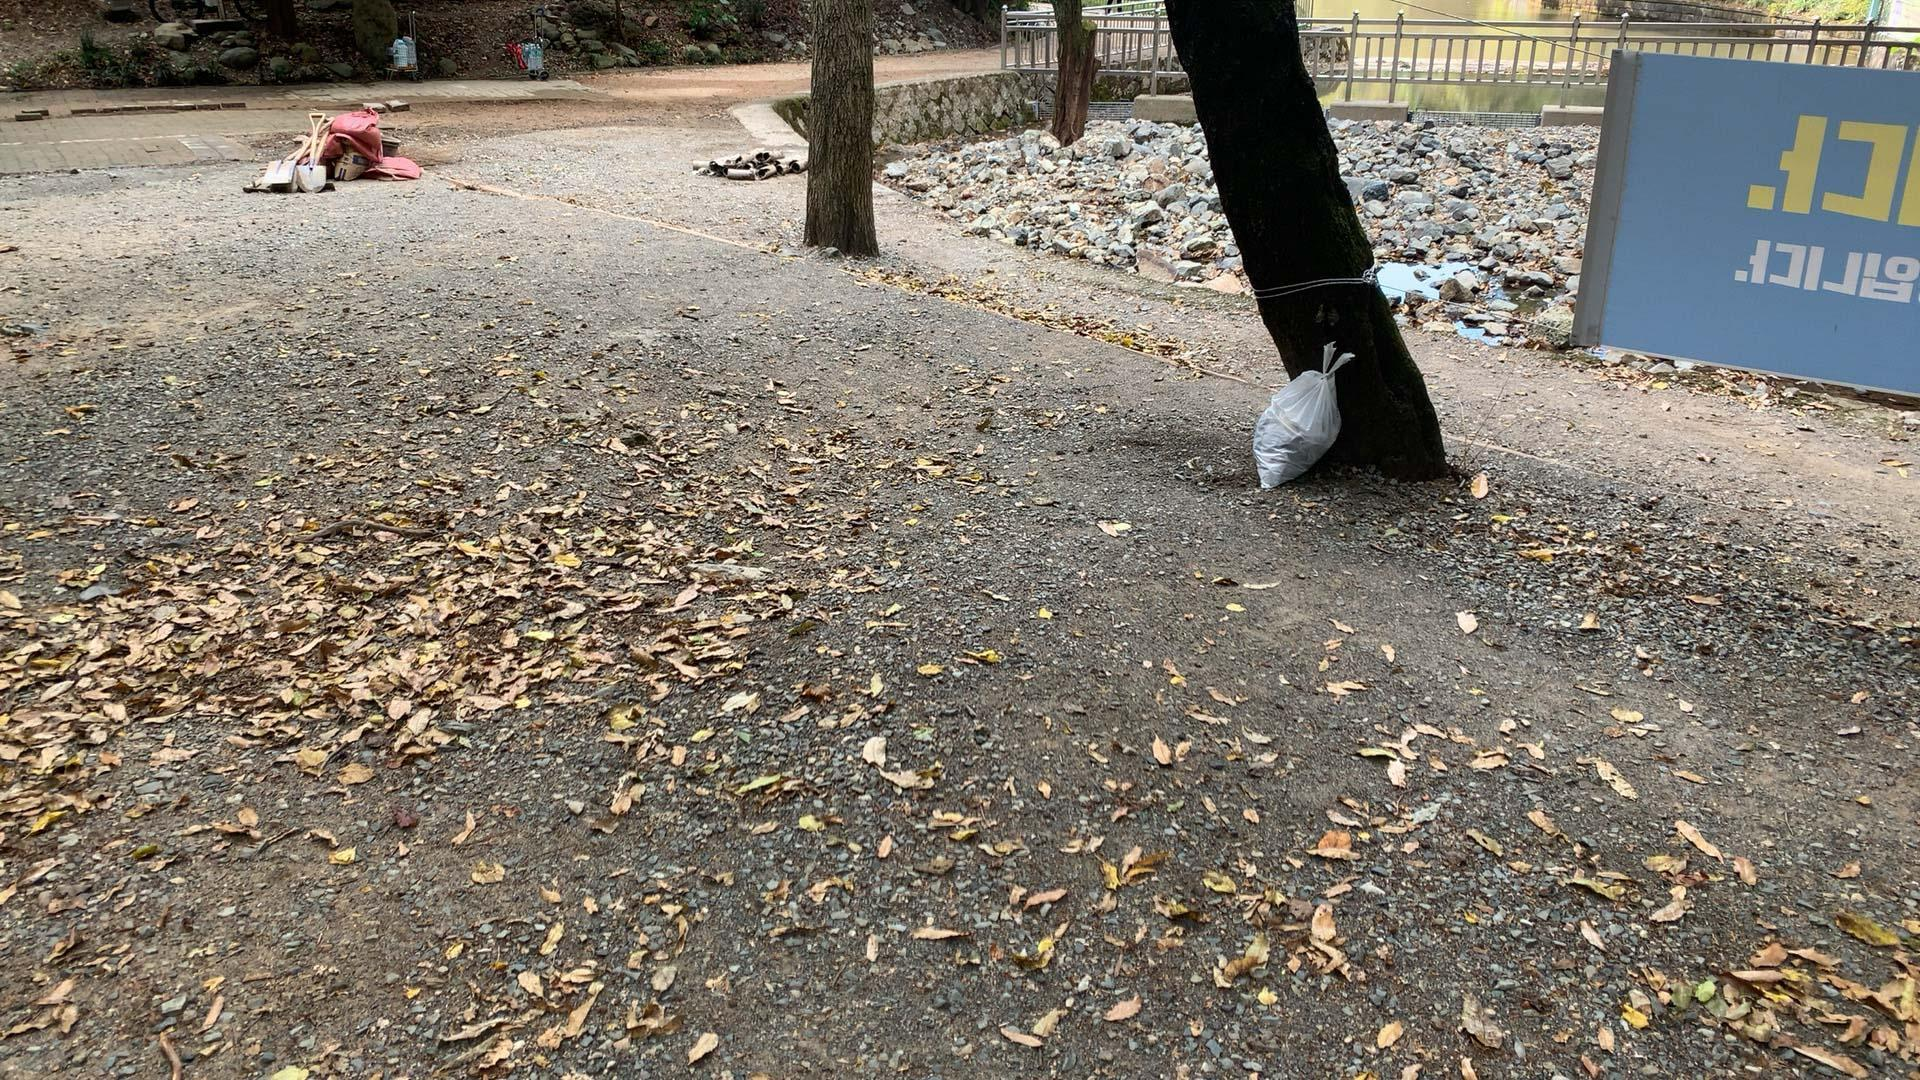white_bag: (1234, 336, 1364, 498)
